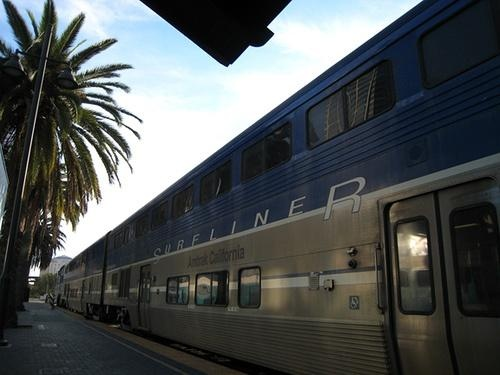train: (56, 1, 500, 375)
